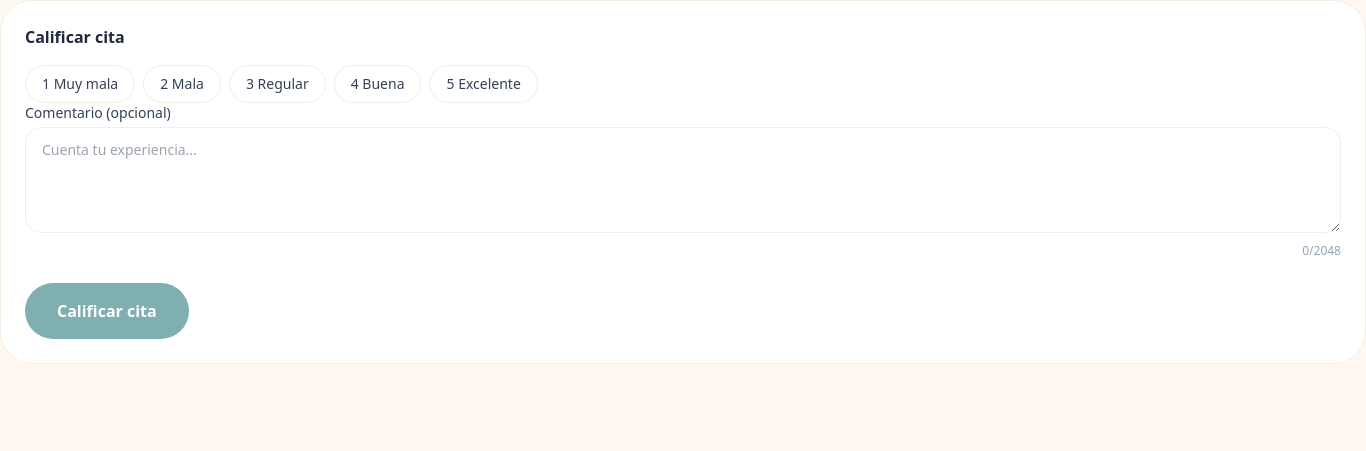
Test: RatingForm › falls back to the generic submit error for non-API failures
This screenshot has width=1366, height=451.
Click the radio button with aria-label "2 estrella" at (182, 84), box [143,65,221,103]
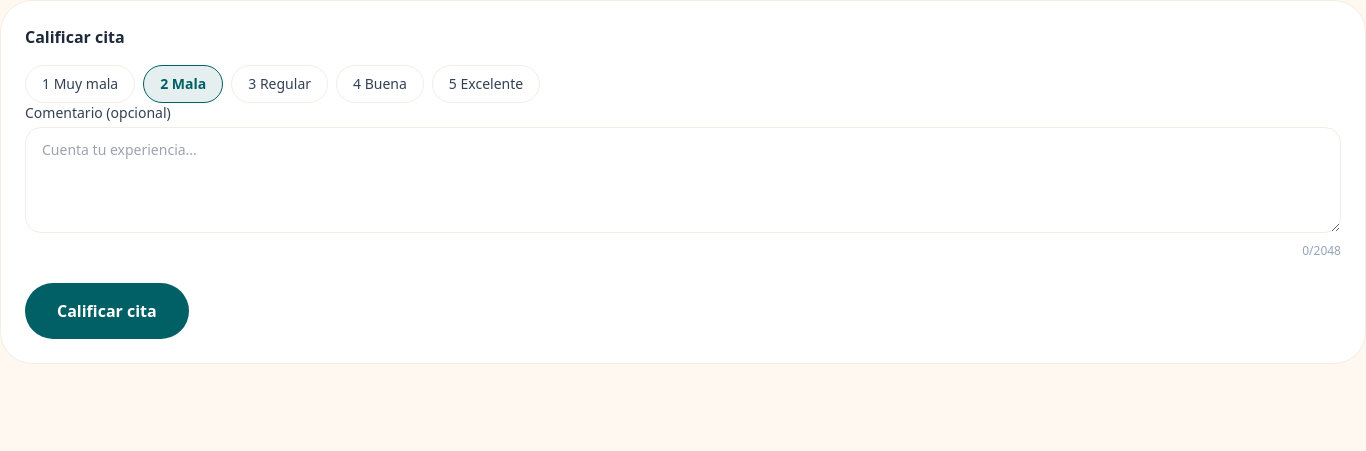
Click the button "Calificar cita" at (107, 311), box [25,283,189,339]
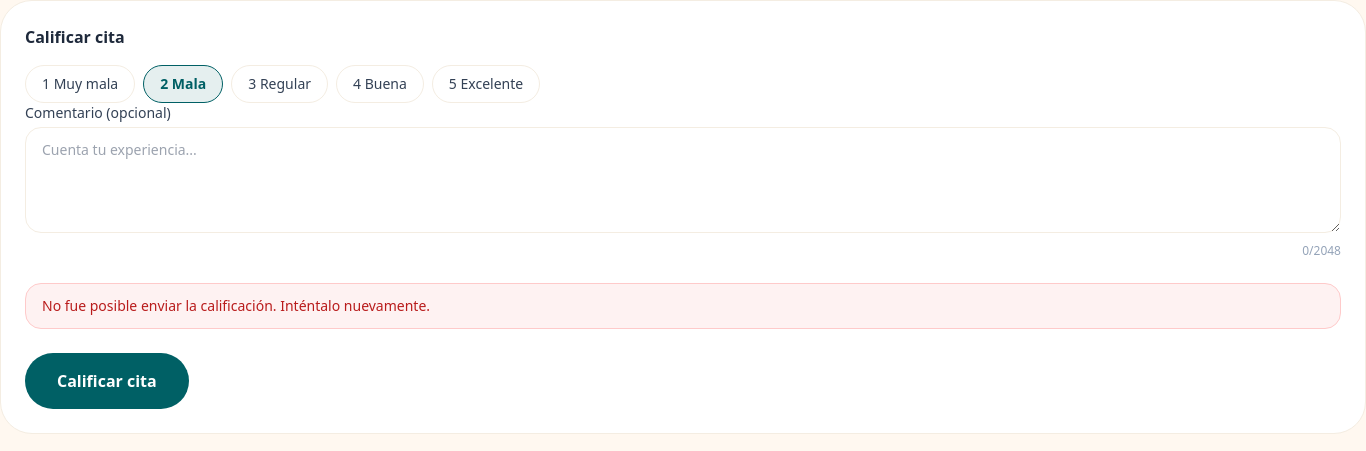
Check: the text "No fue posible enviar la calificación. Inténtalo nuevamente." is shown, box [25,283,1341,329]
